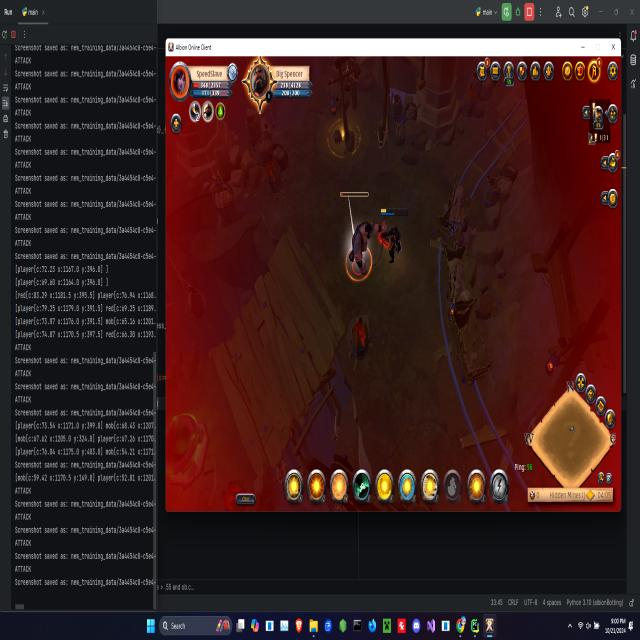ore: (332, 188, 381, 288)
red: (374, 203, 410, 267)
